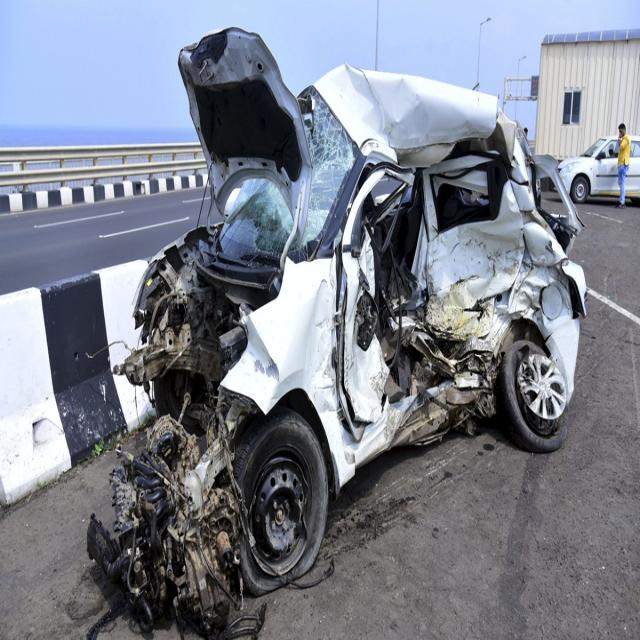accident: (88, 27, 586, 636)
car: (559, 128, 619, 202), (625, 135, 640, 205)
